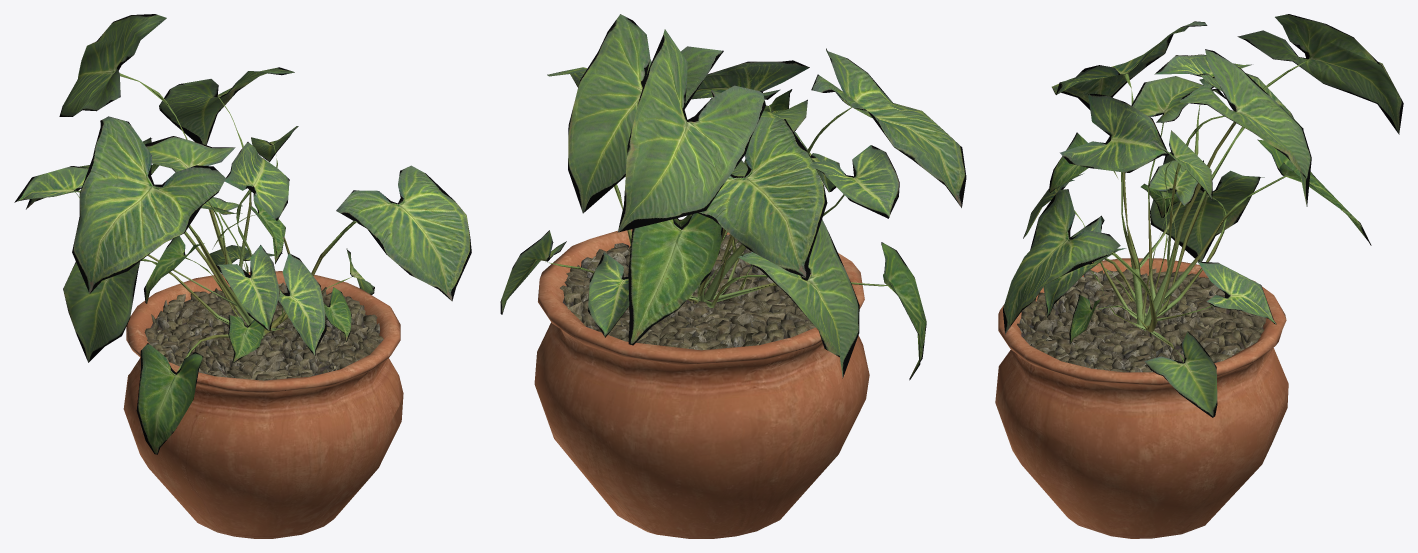
File: potted_plant_02_lod2.glb
3 renders of one model, left to right at view 1: azimuth 30°, elevation 25°; view 2: azimuth 150°, elevation 25°; view 3: azimuth 270°, elevation 25°, orthographic. The views are drawn at different scales.
Parts seen in each view (by area): view 1: potted_plant_02_leaves, potted_plant_02_pot, potted_plant_02_dirt; view 2: potted_plant_02_leaves, potted_plant_02_pot, potted_plant_02_dirt; view 3: potted_plant_02_leaves, potted_plant_02_pot, potted_plant_02_dirt.
Boxes of the visible parts, <box> form: potted_plant_02_leaves: <box>14,14,471,454</box>; potted_plant_02_pot: <box>123,271,403,538</box>; potted_plant_02_dirt: <box>144,282,383,380</box>; potted_plant_02_leaves: <box>500,14,966,380</box>; potted_plant_02_pot: <box>534,219,869,538</box>; potted_plant_02_dirt: <box>560,234,815,350</box>; potted_plant_02_leaves: <box>1003,14,1403,417</box>; potted_plant_02_pot: <box>995,258,1288,538</box>; potted_plant_02_dirt: <box>1017,268,1265,372</box>.
Bounding box in the file's own units: 0.6989 × 0.8378 × 0.6553.
Materials: 2 (2 with a texture image).
